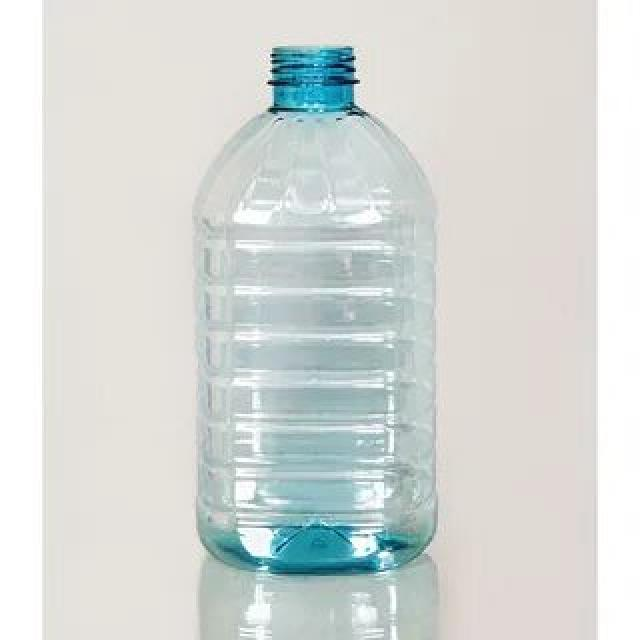blue: (197, 45, 440, 575)
